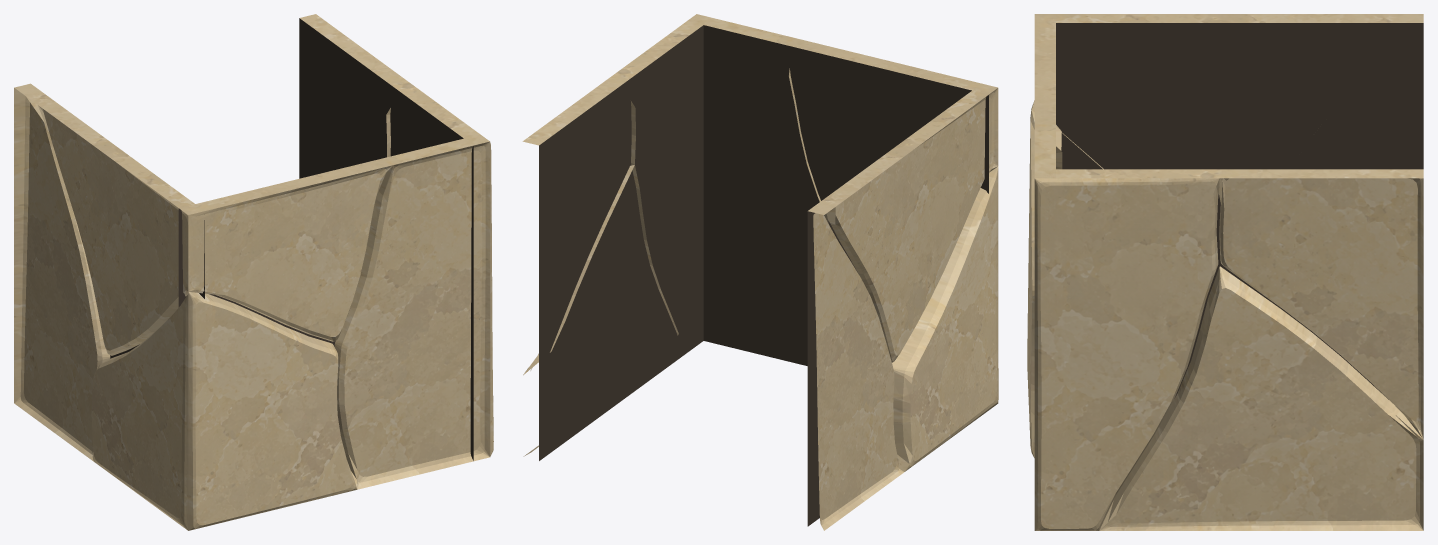
File: ground_square_end_06.glb
3 renders of one model, left to right at view 1: azimuth 30°, elevation 25°; view 2: azimuth 150°, elevation 25°; view 3: azimuth 270°, elevation 25°, orthographic. The views are drawn at different scales.
Visible parts, largest first — view 1: GroundSquareEnd06_Body; view 2: GroundSquareEnd06_Body; view 3: GroundSquareEnd06_Body.
Part boxes in pixels (bbox=[...]): GroundSquareEnd06_Body: bbox=[14, 14, 493, 530]; GroundSquareEnd06_Body: bbox=[522, 14, 998, 530]; GroundSquareEnd06_Body: bbox=[1027, 14, 1423, 530].
Bounding box in the file's own units: 1.04 × 1 × 1.02.
Materials: 11 (10 with a texture image).
